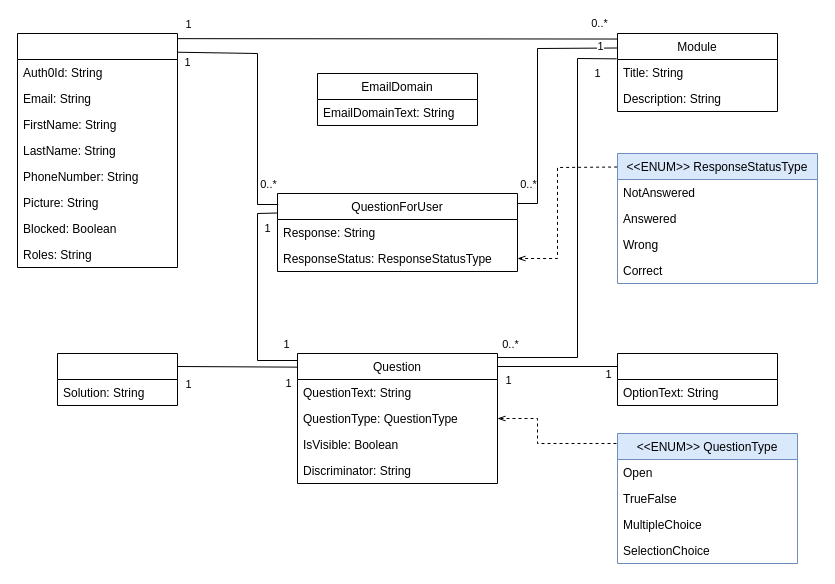
This 835x584 diagram has some shape labels left out. Here are the shapes that lost their labels. From the top down, the box of each, then its label:
(16, 32, 178, 268): InternalUsers
(56, 352, 178, 406): QuestionSolutions
(616, 352, 778, 406): ResponseOptions
